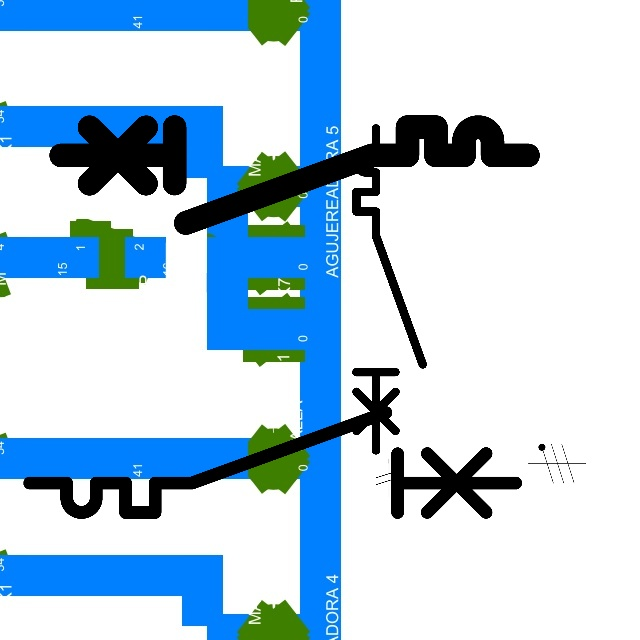interruptor_termomagnetico: (17, 400, 528, 525), (49, 115, 540, 235), (348, 120, 431, 458)
